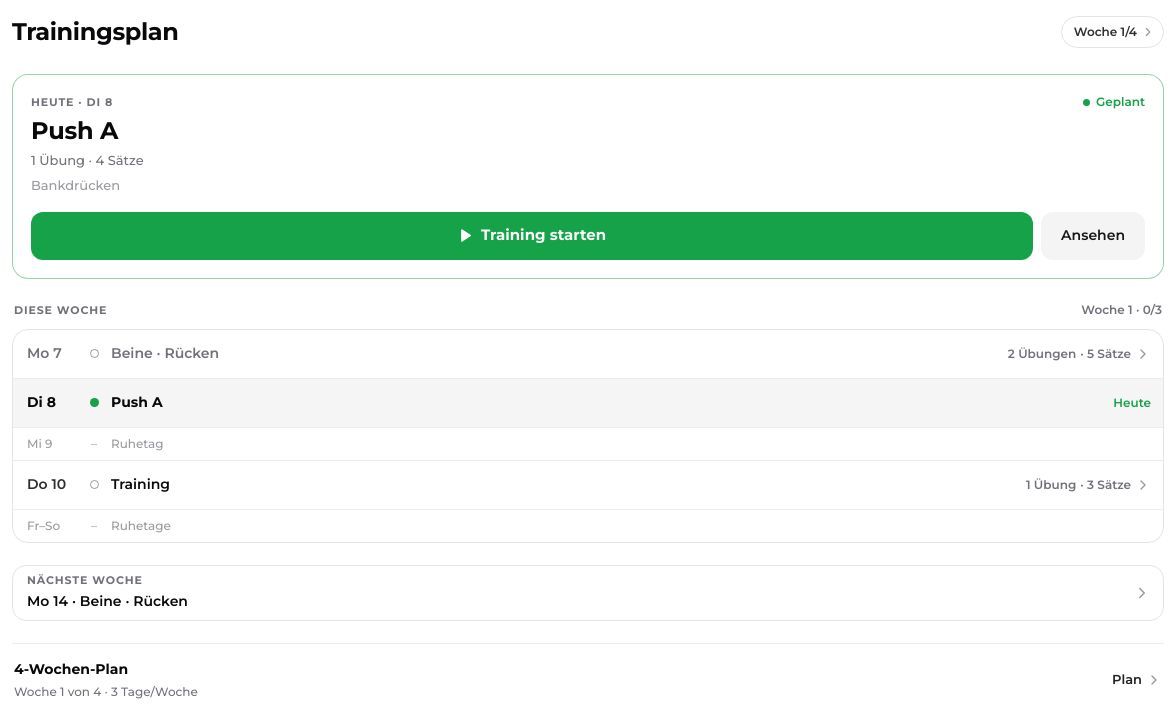
Day Detail › opens next week's first workout from the teaser
Click the button "Nächste Woche Mo 14 · Beine · Rücken" at (85, 580), box [12, 565, 1164, 621]
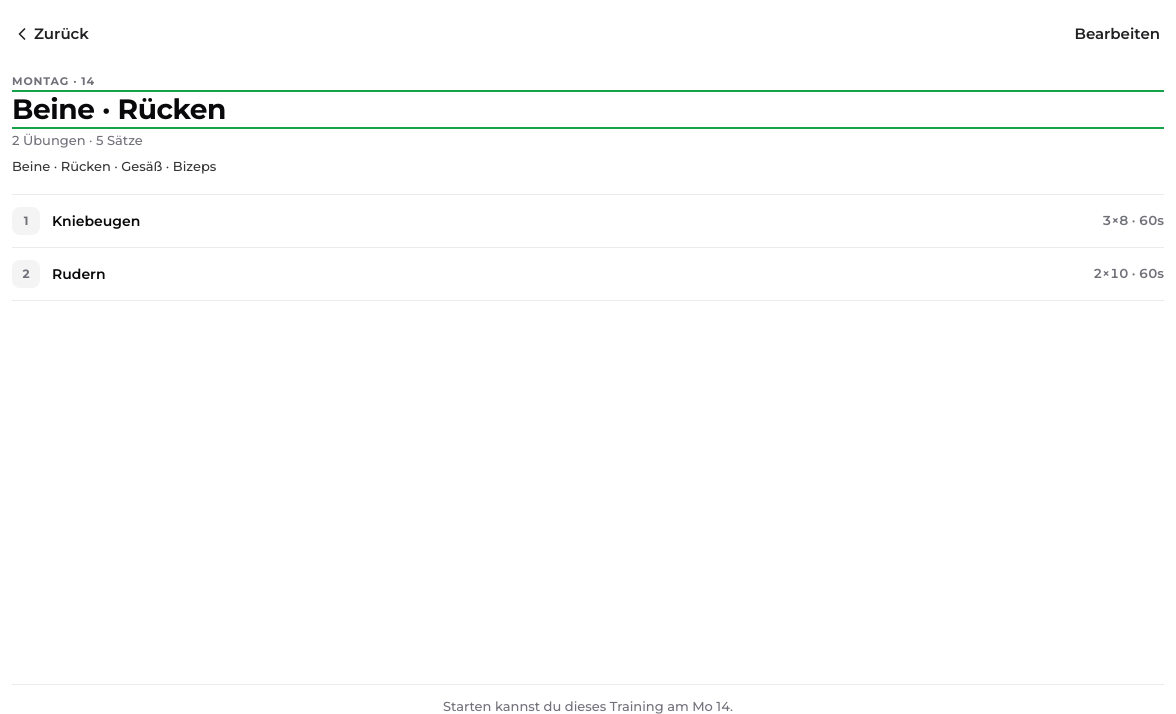
expect the text "Montag · 14" is shown: met, box [12, 74, 95, 88]
expect the text "Kniebeugen" is shown: met, box [52, 212, 140, 230]
